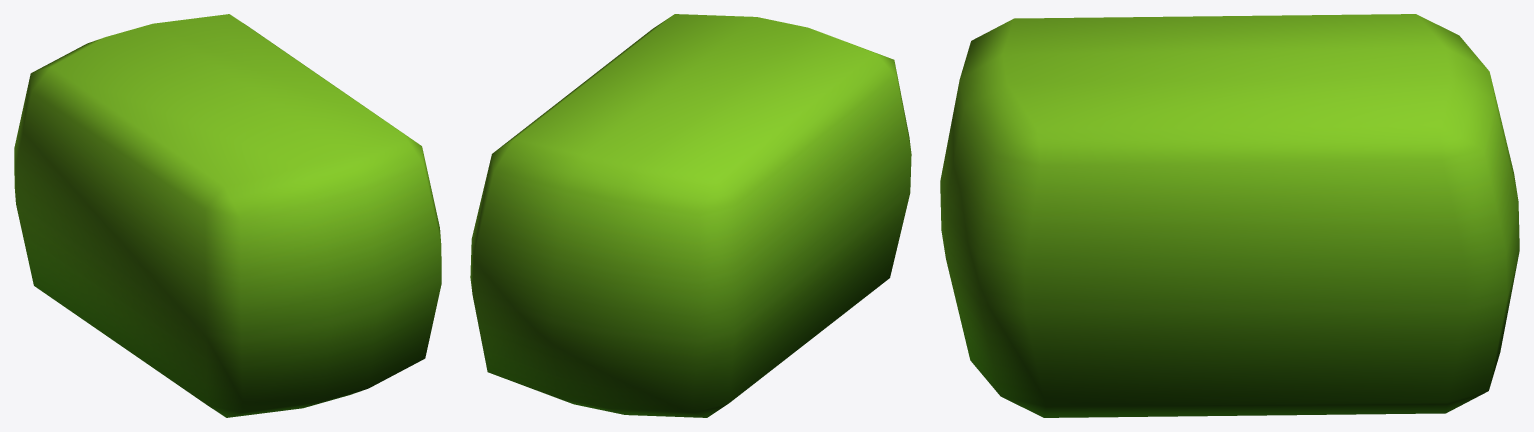
Rendered from Bush_1_1.glb.
3 views of the same model, side by side, from view 1: azimuth 30°, elevation 25°; view 2: azimuth 150°, elevation 25°; view 3: azimuth 270°, elevation 25° (orthographic). The views are drawn at different scales.
Parts seen in each view (by area): view 1: Bush_1_1; view 2: Bush_1_1; view 3: Bush_1_1.
Boxes of the visible parts, bbox=[...] form: Bush_1_1: bbox=[14, 14, 441, 417]; Bush_1_1: bbox=[470, 14, 911, 417]; Bush_1_1: bbox=[940, 14, 1519, 417].
Size of the model in its own units: 0.799 by 0.728 by 1.29.
Materials: 1 (1 with a texture image).
